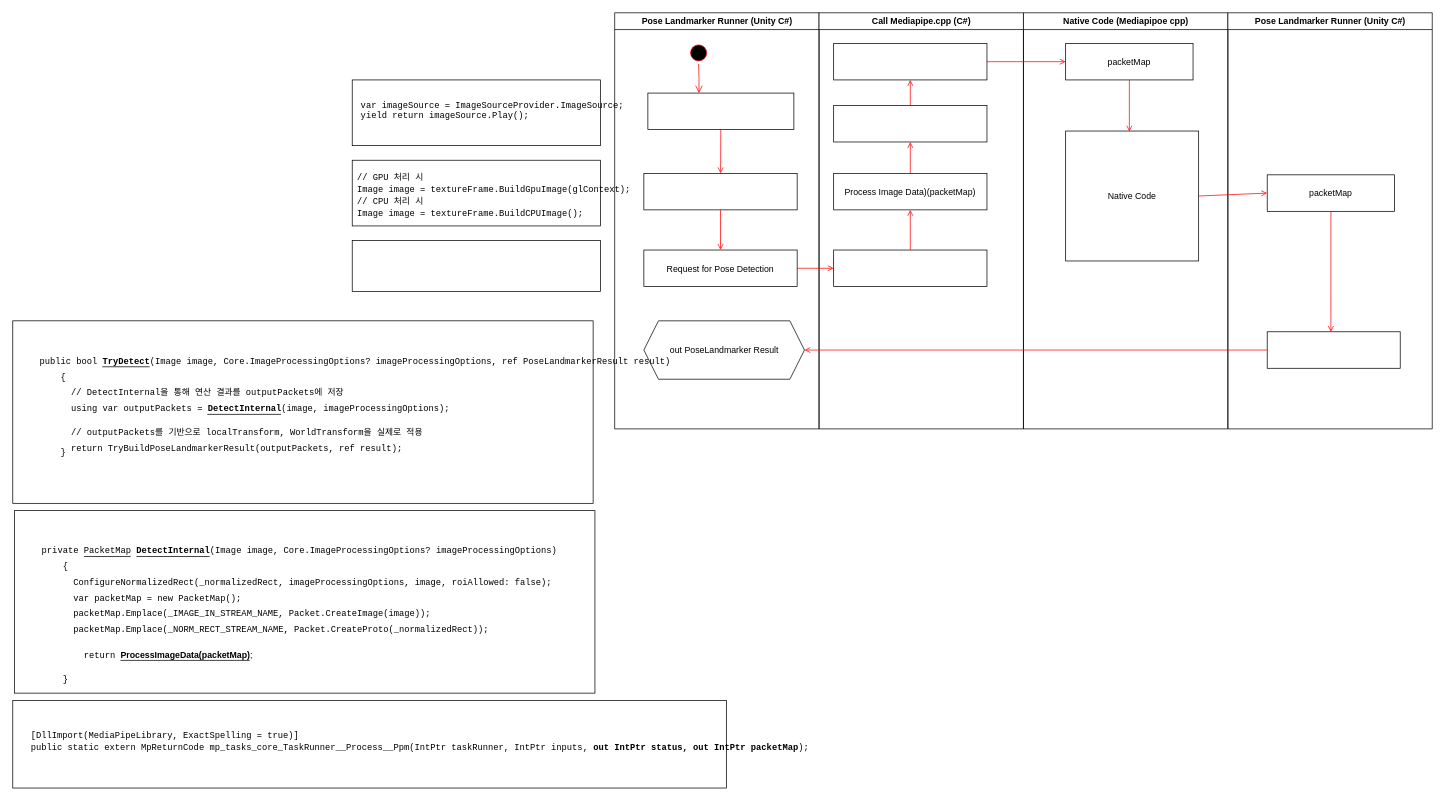
Some shapes in this 1445 by 801 pixel diagram are drawn without their labels. The shapes that lost their labels are listed below. From the top down, each one's centre as x and y in pixels, then its label:
pixel 910 61: Call cpp code
pixel 720 111: Webcam Capture
pixel 910 123: TaskRunner.Process(packetMap)
pixel 720 191: Read Texture
pixel 475 266: taskApi.TryDetect(image, imageProcessingOptions, ref result );
pixel 910 268: Detection Internal
pixel 1333 349: PoseLandmarkerResult
